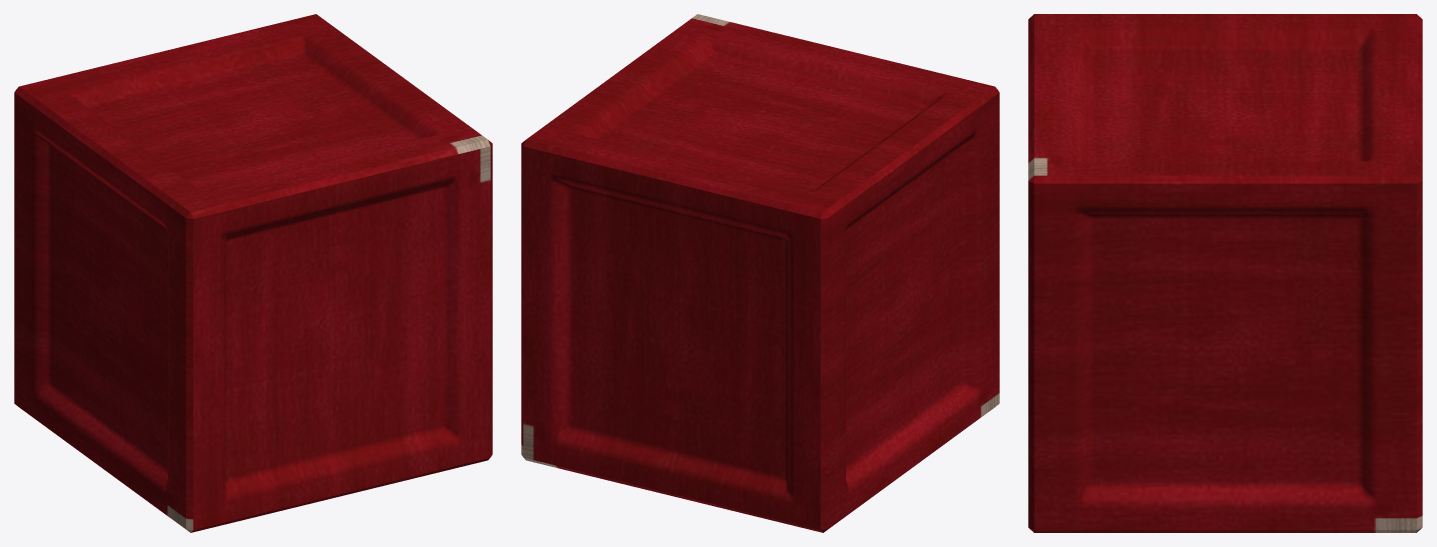
Rendered from rbox.fbx.
3 views of the same model, side by side, from view 1: azimuth 30°, elevation 25°; view 2: azimuth 150°, elevation 25°; view 3: azimuth 270°, elevation 25° (orthographic). The views are drawn at different scales.
Visible parts, largest first — view 1: pCube165; view 2: pCube165; view 3: pCube165.
Part boxes in pixels (x1=…): pCube165: x1=14, y1=14, x2=492, y2=532; pCube165: x1=521, y1=14, x2=999, y2=532; pCube165: x1=1028, y1=14, x2=1422, y2=532.
Bounding box in the file's own units: 53.81 × 53.81 × 53.81.
